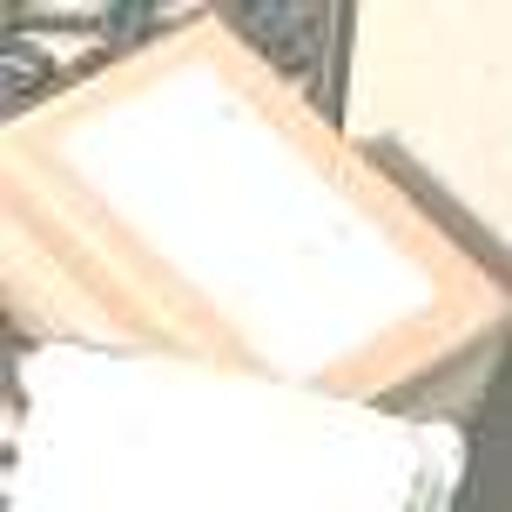Other: (0, 10, 495, 391), (0, 355, 463, 512)
